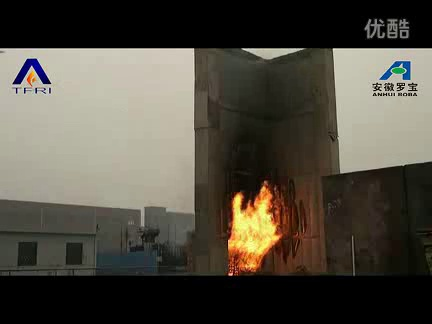fire: (224, 180, 285, 276)
